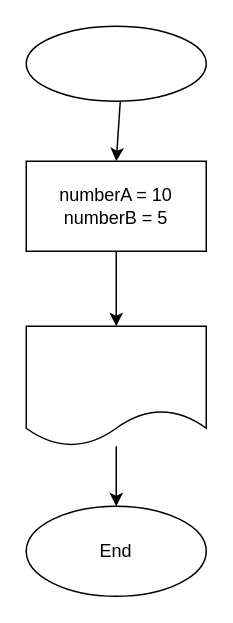
Some shapes in this 233 by 623 pixel diagram are drawn without their labels. Each missing label, with the box of its shape:
number A / numberB: (25, 325, 206, 446)
Start: (25, 25, 206, 101)
